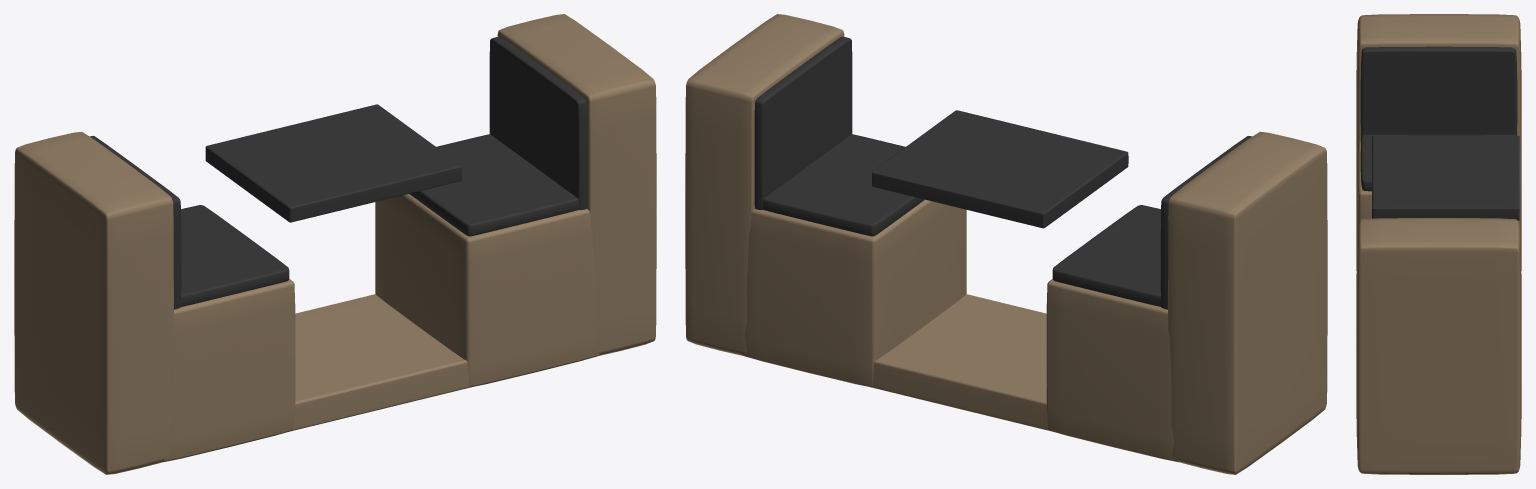
The model's file is chairs_with_table_at_the_wall_idk.fbx.
3 views of the same model, side by side, from view 1: azimuth 30°, elevation 25°; view 2: azimuth 150°, elevation 25°; view 3: azimuth 270°, elevation 25° (orthographic). The views are drawn at different scales.
Parts seen in each view (by area): view 1: pCube24; view 2: pCube24; view 3: pCube24.
Boxes of the visible parts, x1,y1,x2,y2 form: pCube24: (14,14,656,474); pCube24: (685,14,1327,474); pCube24: (1356,14,1521,474).
Bounding box in the file's own units: 13.83 × 6.44 × 4.15.
